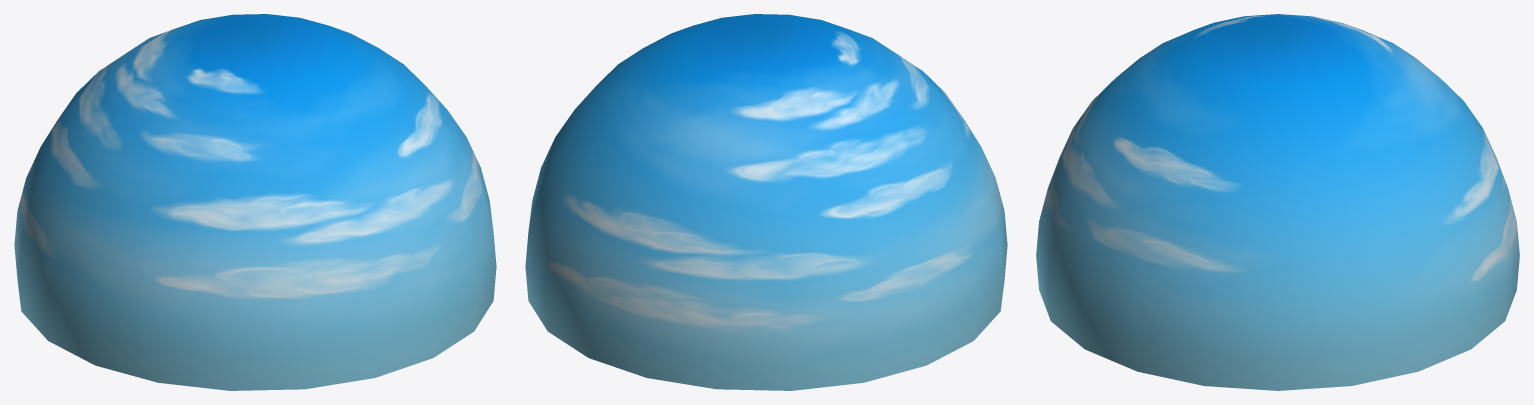
Rendered from skydome.fbx.
The picture shows the model from 3 angles, left to right: view 1: azimuth 30°, elevation 25°; view 2: azimuth 150°, elevation 25°; view 3: azimuth 270°, elevation 25°; orthographic projection.
Visible parts, largest first — view 1: skydome; view 2: skydome; view 3: skydome.
Boxes of the visible parts, box(x1,y1,x2,y2) form: skydome: box(14, 14, 496, 390); skydome: box(525, 14, 1007, 390); skydome: box(1036, 14, 1519, 390).
Size of the model in its own units: 509153 by 294401 by 509153.
